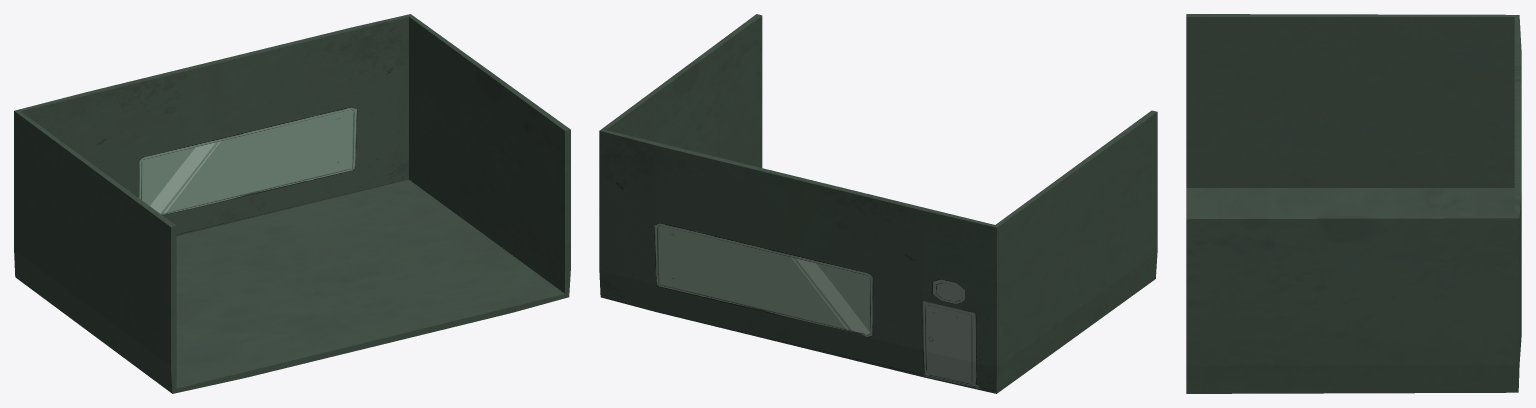
The model's file is room-test.glb.
The picture shows the model from 3 angles, left to right: view 1: azimuth 30°, elevation 25°; view 2: azimuth 150°, elevation 25°; view 3: azimuth 270°, elevation 25°; orthographic projection. The views are drawn at different scales.
Parts seen in each view (by area): view 1: Plane; view 2: Plane; view 3: Plane.
Boxes of the visible parts, left/top/right/bottom form: Plane: left=14, top=14, right=570, bottom=393; Plane: left=599, top=14, right=1157, bottom=393; Plane: left=1186, top=14, right=1521, bottom=393.
Bounding box in the file's own units: 10.97 × 4.43 × 7.58.
Materials: 1 (1 with a texture image).
